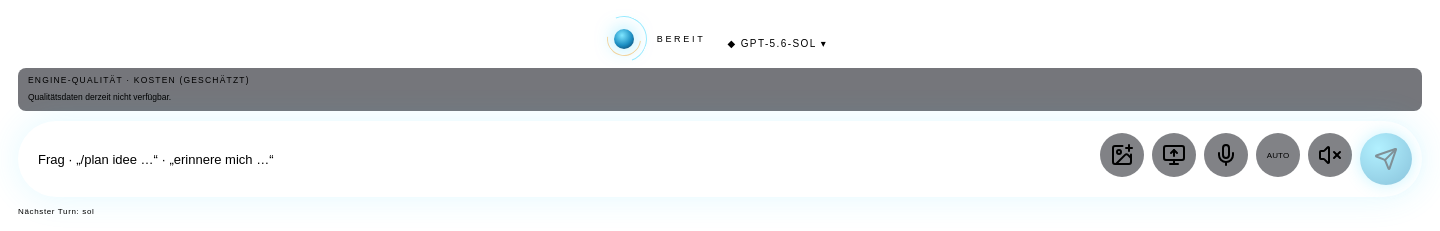
Test: JarvisChat S3.6 — Push-to-Talk (Mic → /api/audio/transcribe) › Transkript wird mit Leerzeichen an bestehenden Input-Text angehängt
Type "notiz" into the field named "Nachricht an Jarvis" at (564, 159), box [38,137,1090,181]
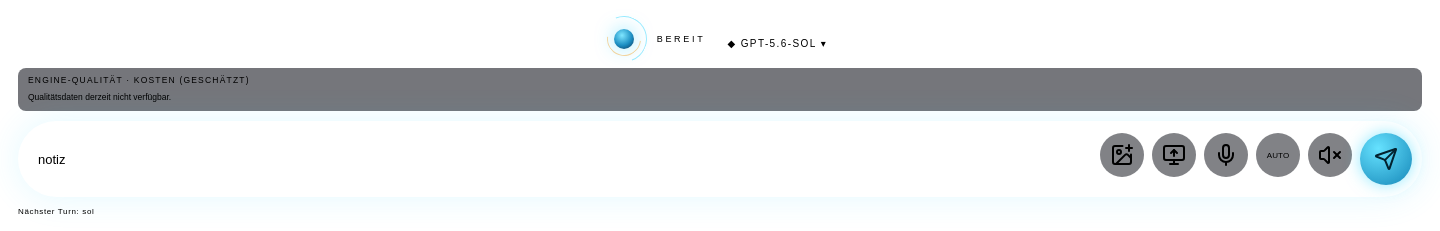
Click the button named "Diktieren" at (1226, 155), box [1204,133,1248,177]
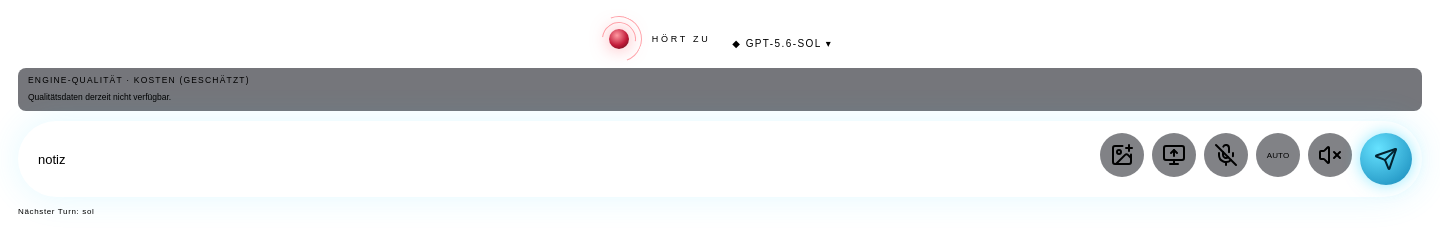
Click the button named "Aufnahme läuft — zum Stoppen tippen" at (1226, 155), box [1204,133,1248,177]
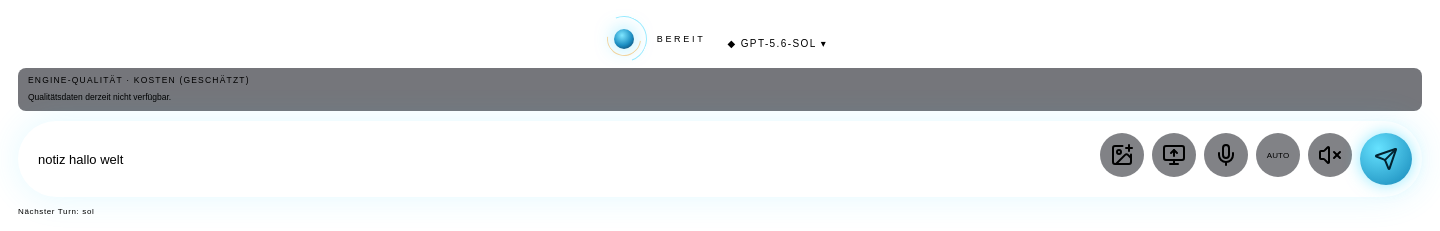
Check: the field named "Nachricht an Jarvis" holds "notiz hallo welt", box [38,137,1090,181]
